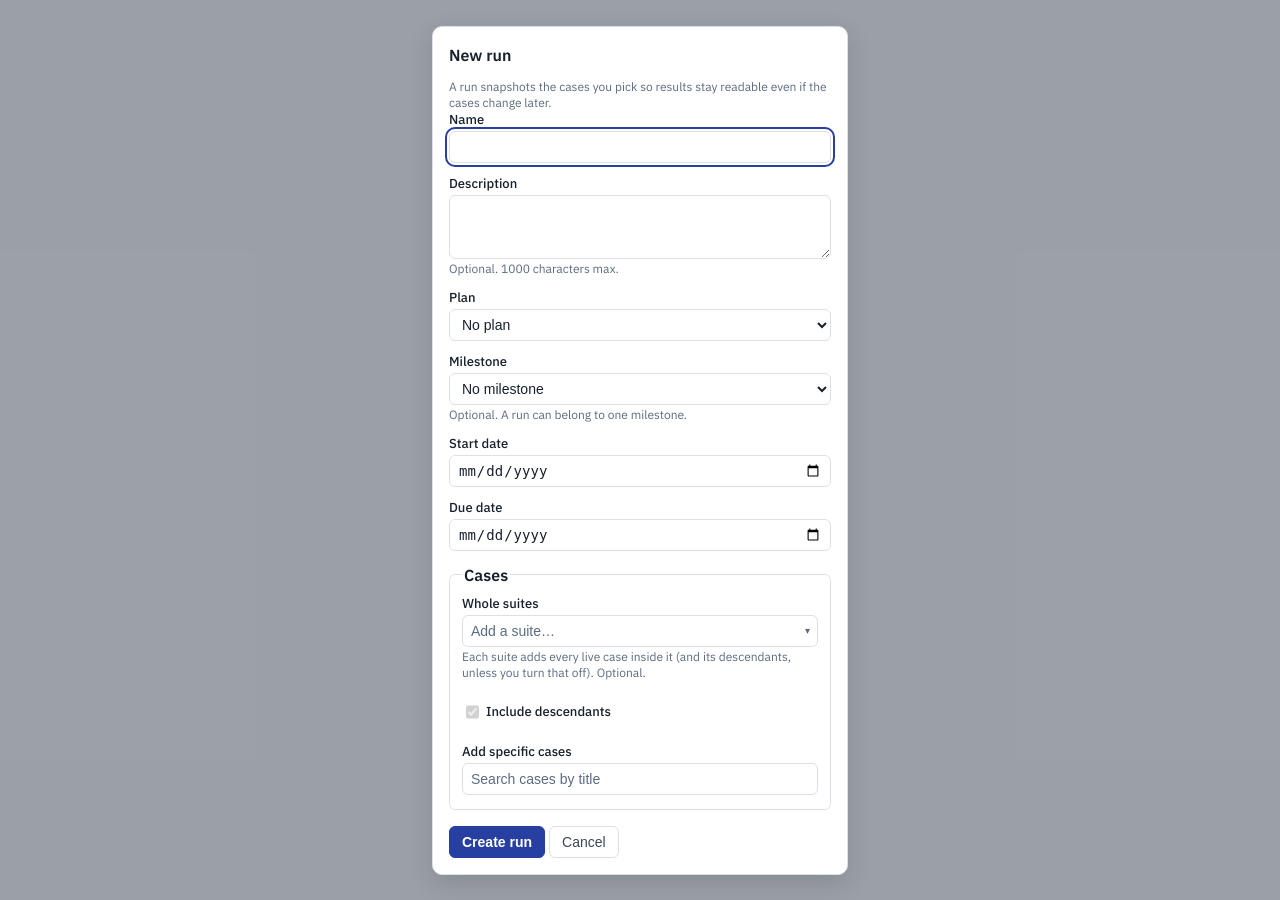
Test: RunFormDialog › blocks submit when the start date is after the due date
The image size is (1280, 900).
In the field labelled "Name": (640, 146) top-left (449, 130), bottom-right (831, 162), type "Checkout smoke"
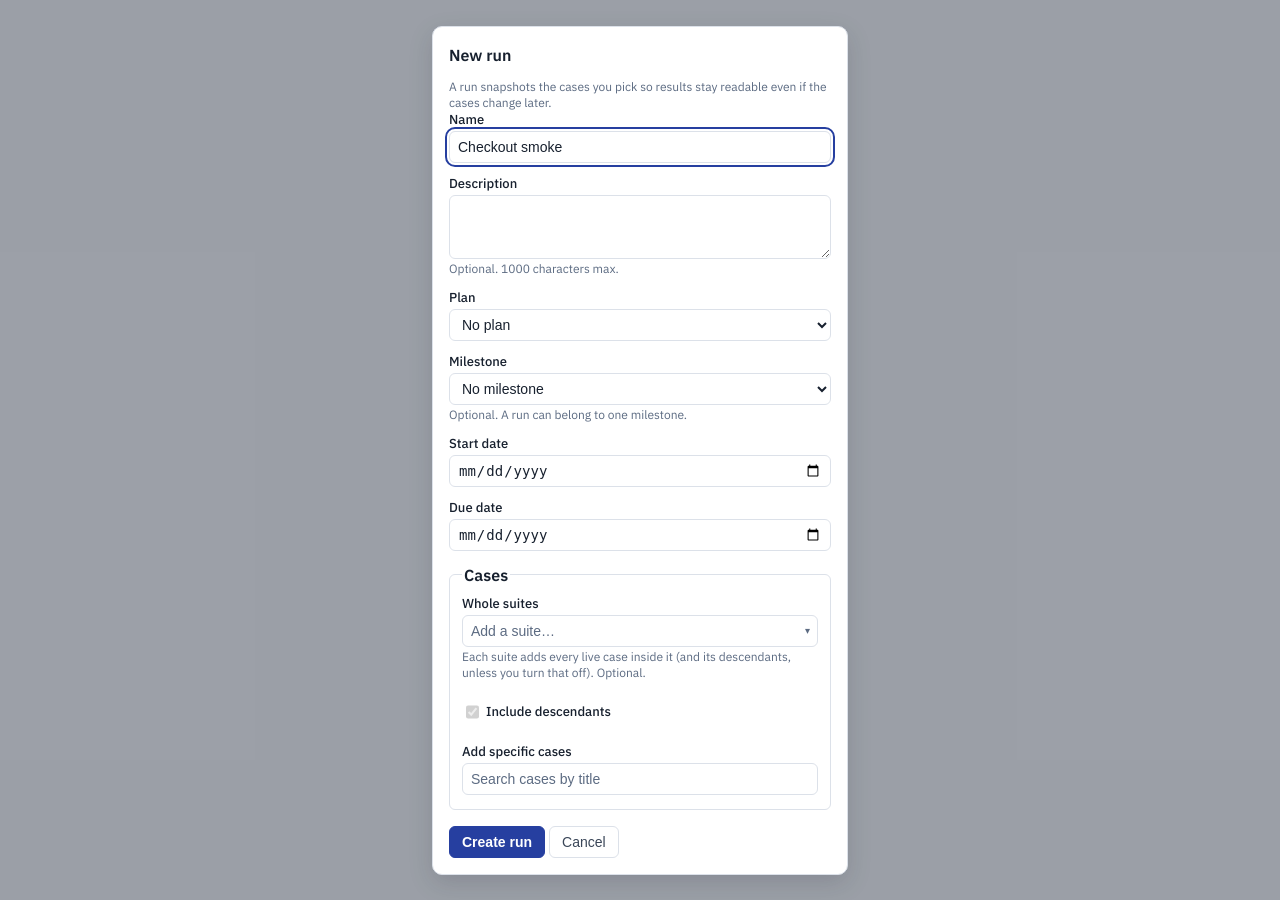
In the date field labelled "Start date": (640, 470) top-left (449, 454), bottom-right (831, 486), type "2026-11-20"
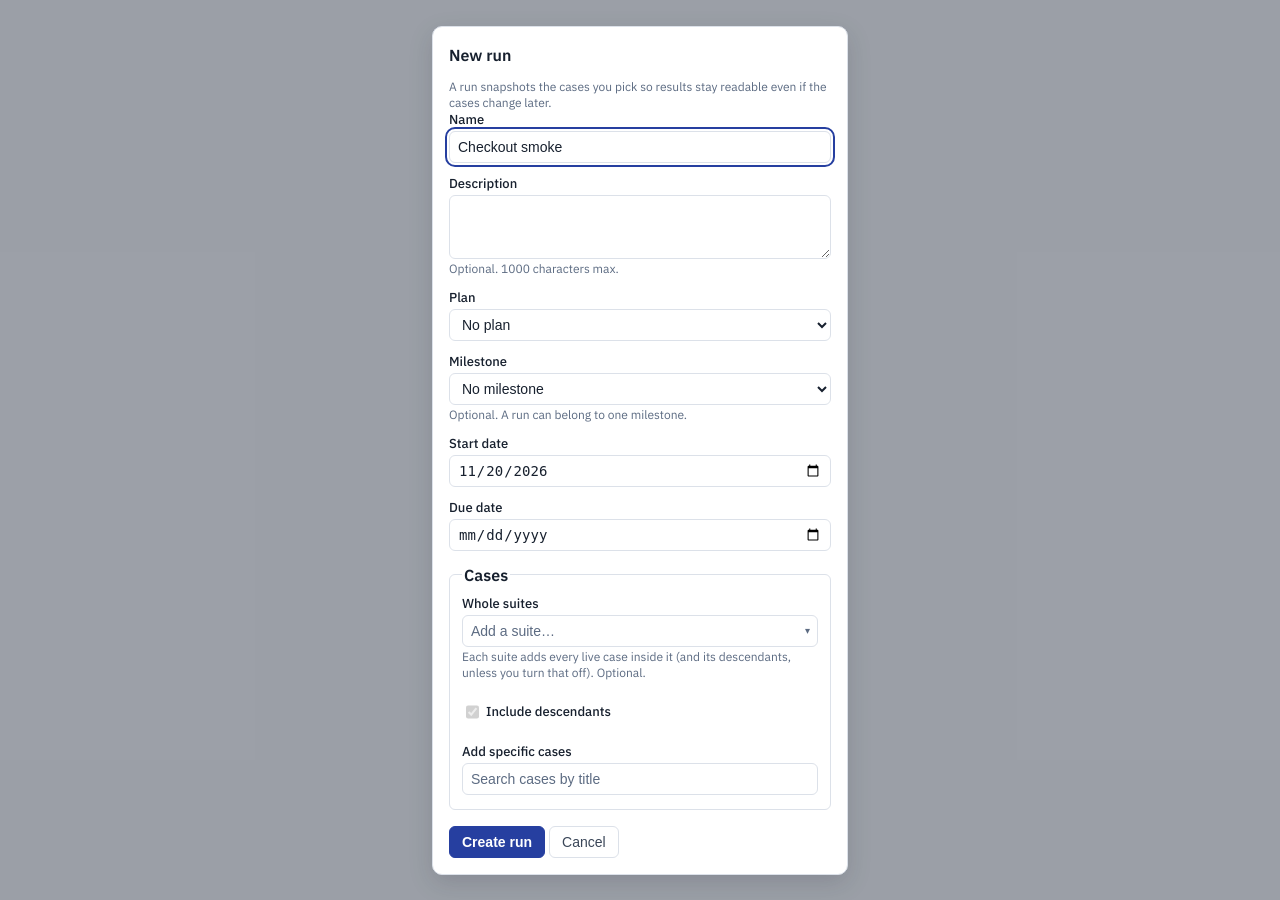
In the date field labelled "Due date": (640, 534) top-left (449, 518), bottom-right (831, 550), type "2026-11-14"
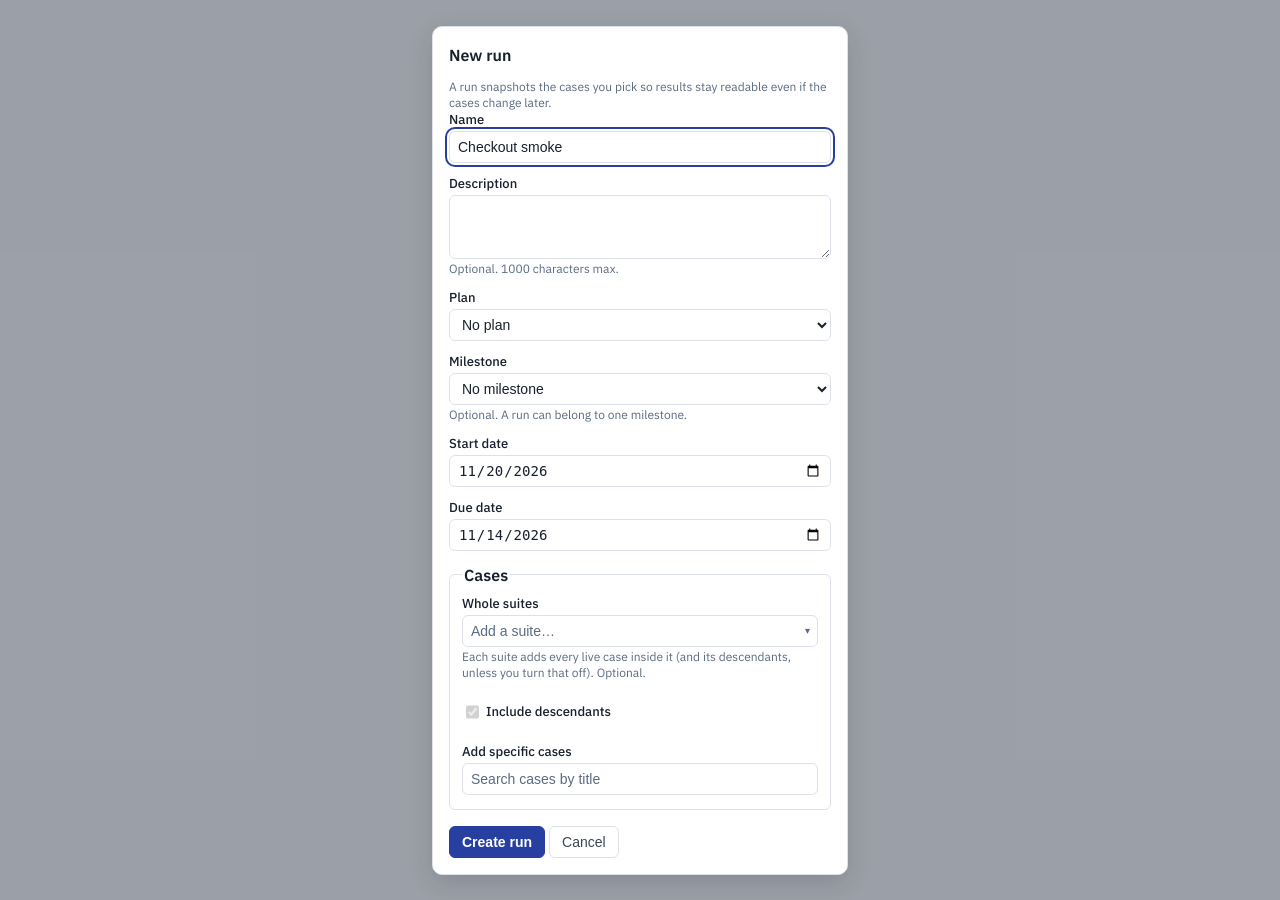
Click the button "Create run": (497, 842) top-left (449, 826), bottom-right (545, 858)
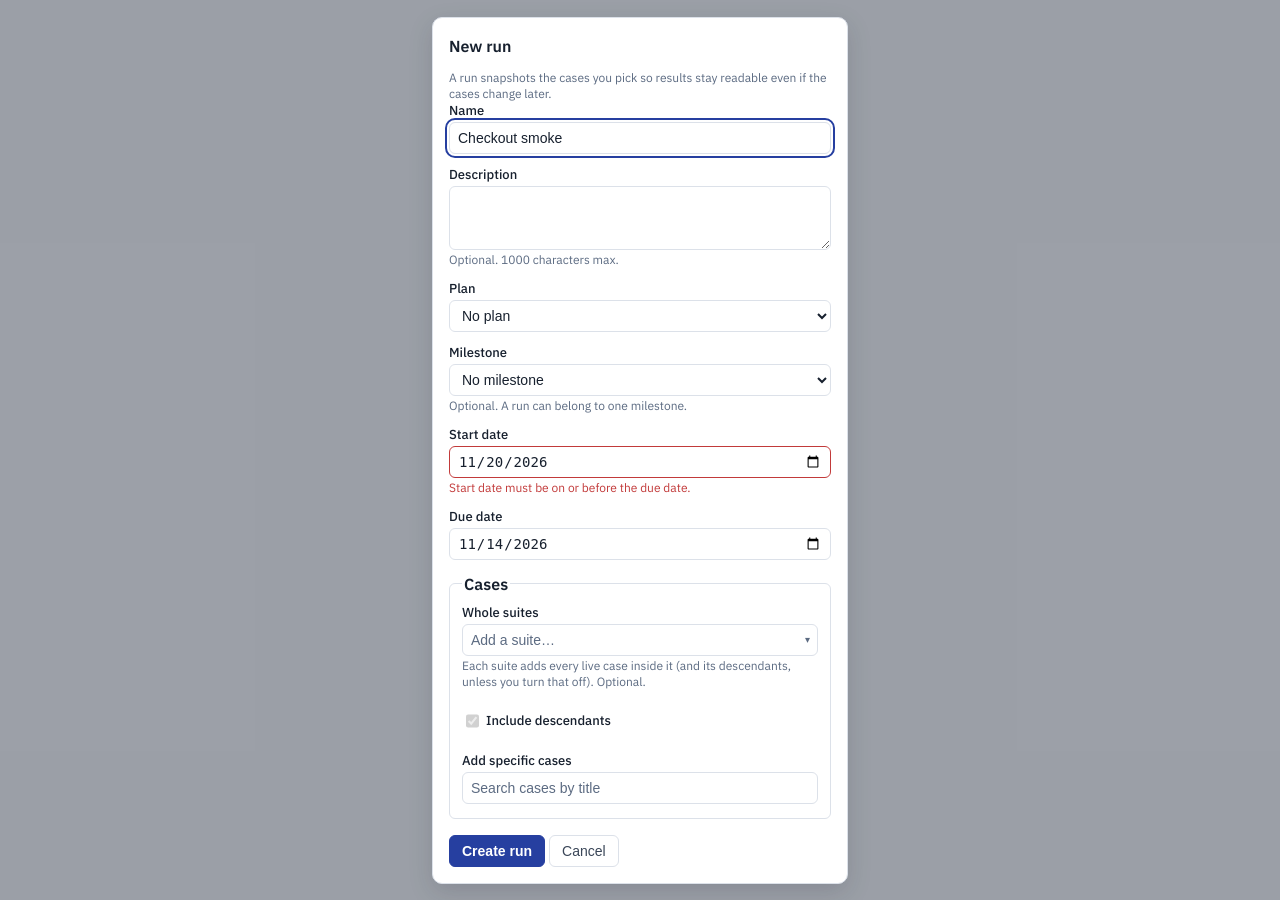
Now the text "Start date must be on or before the due date." is shown, box top-left (449, 480), bottom-right (690, 494)
